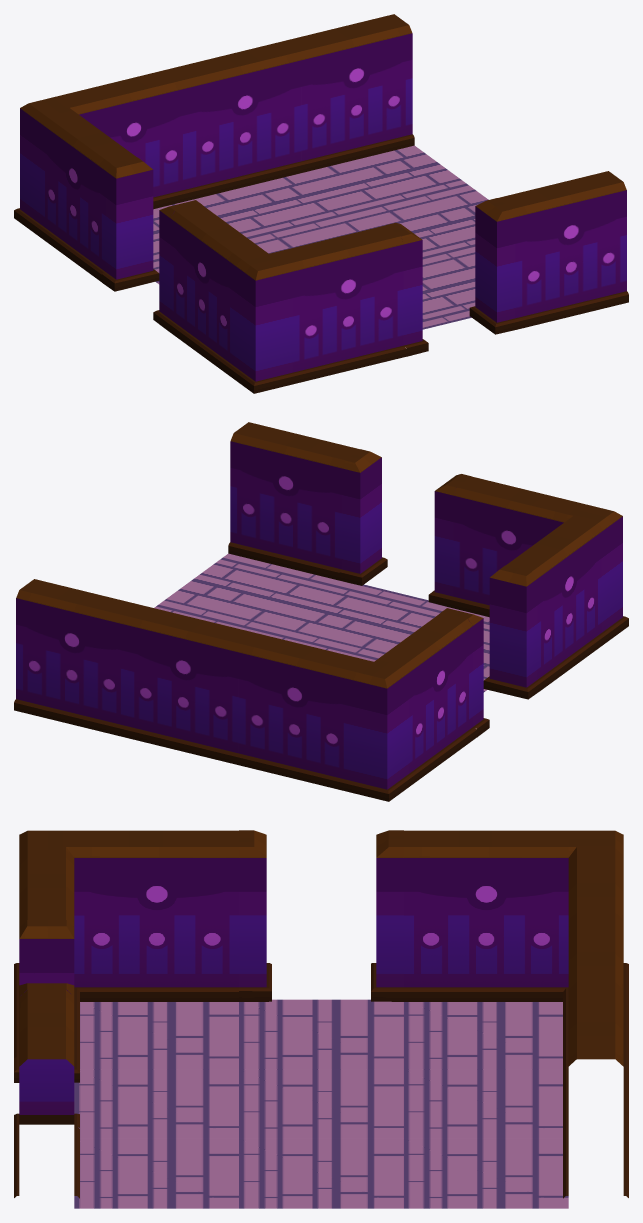
Rendered from Walls_Bedroom2_v4.fbx.
The picture shows the model from 3 angles, top to bottom: view 1: azimuth 30°, elevation 25°; view 2: azimuth 150°, elevation 25°; view 3: azimuth 270°, elevation 25°; orthographic projection. The views are drawn at different scales.
Visible parts, largest first — view 1: Walls_Bedroom2_v2; view 2: Walls_Bedroom2_v2; view 3: Walls_Bedroom2_v2.
Boxes of the visible parts, box(x1,y1,x2,y2) form: Walls_Bedroom2_v2: box(14, 14, 628, 393); Walls_Bedroom2_v2: box(14, 422, 628, 801); Walls_Bedroom2_v2: box(14, 830, 628, 1208).
Size of the model in its own units: 1010 by 300 by 1120.
